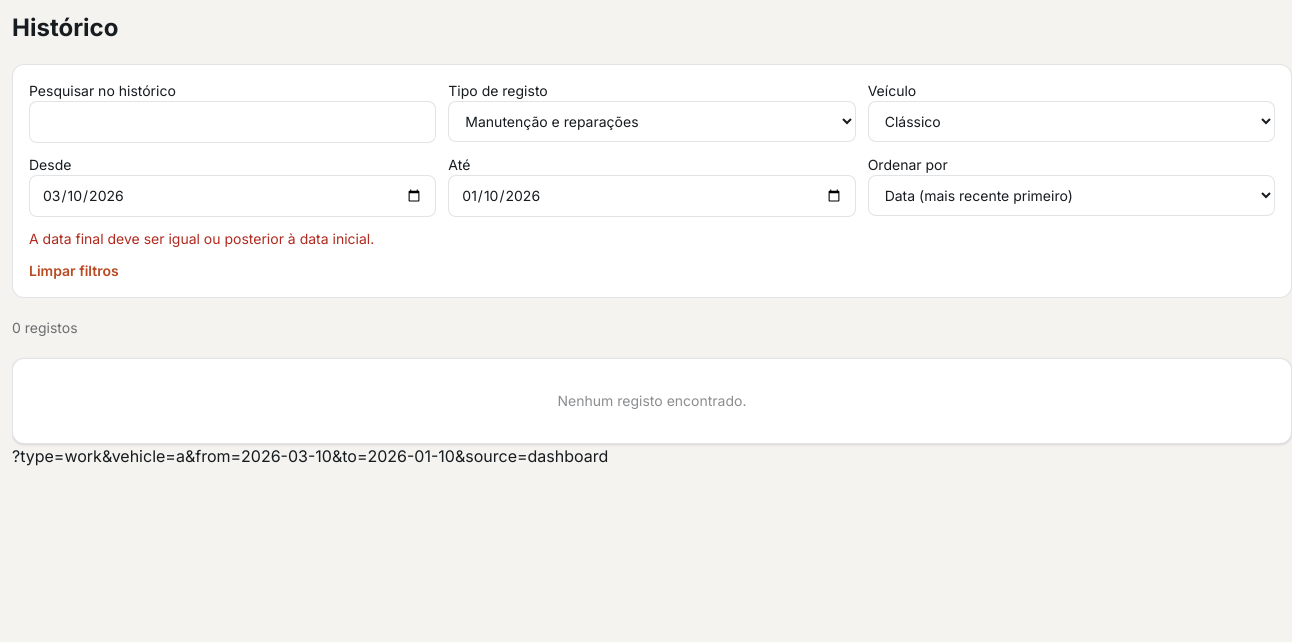
Test: History › clears filters without losing unrelated parameters
Expected: the message "A data final deve ser igual ou posterior à data inicial." is shown, [29,230,374,247]
Click the button "Limpar filtros".
click(74, 271)  # box [29,261,119,281]
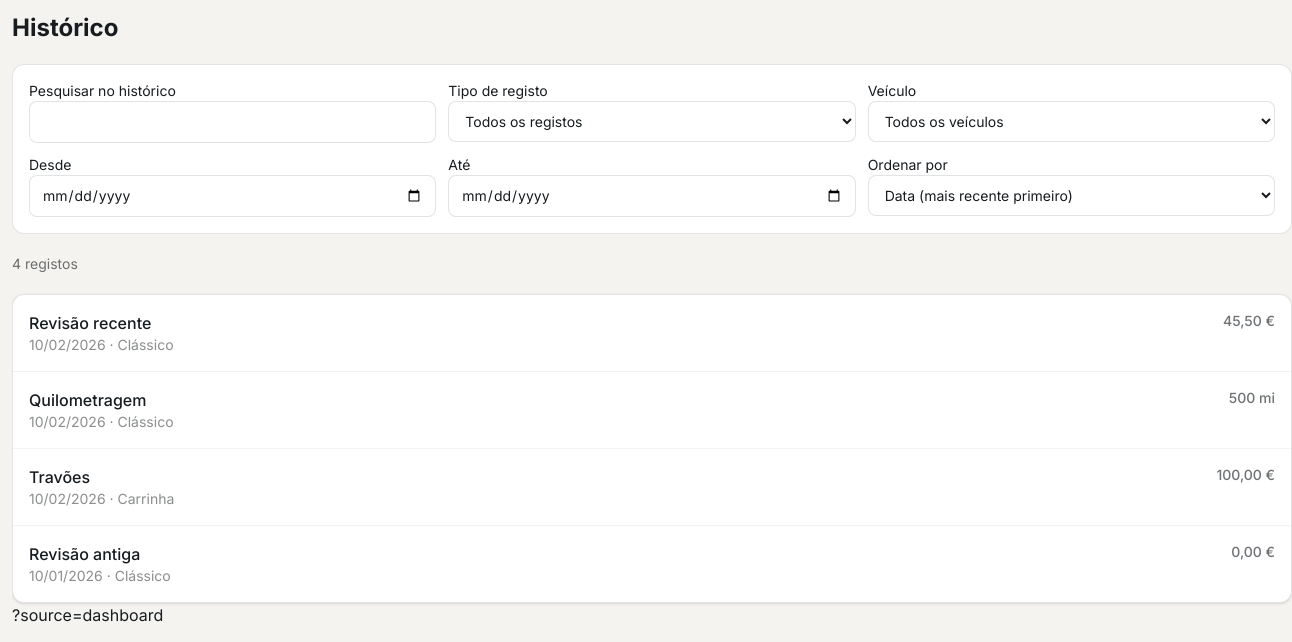
Now the text with test id "location" reads "?source=dashboard", box [12,605,163,625]
Now the number of links is 4, box [29,312,1275,353]; [29,389,1275,430]; [29,466,1275,507]; [29,543,1275,584]
